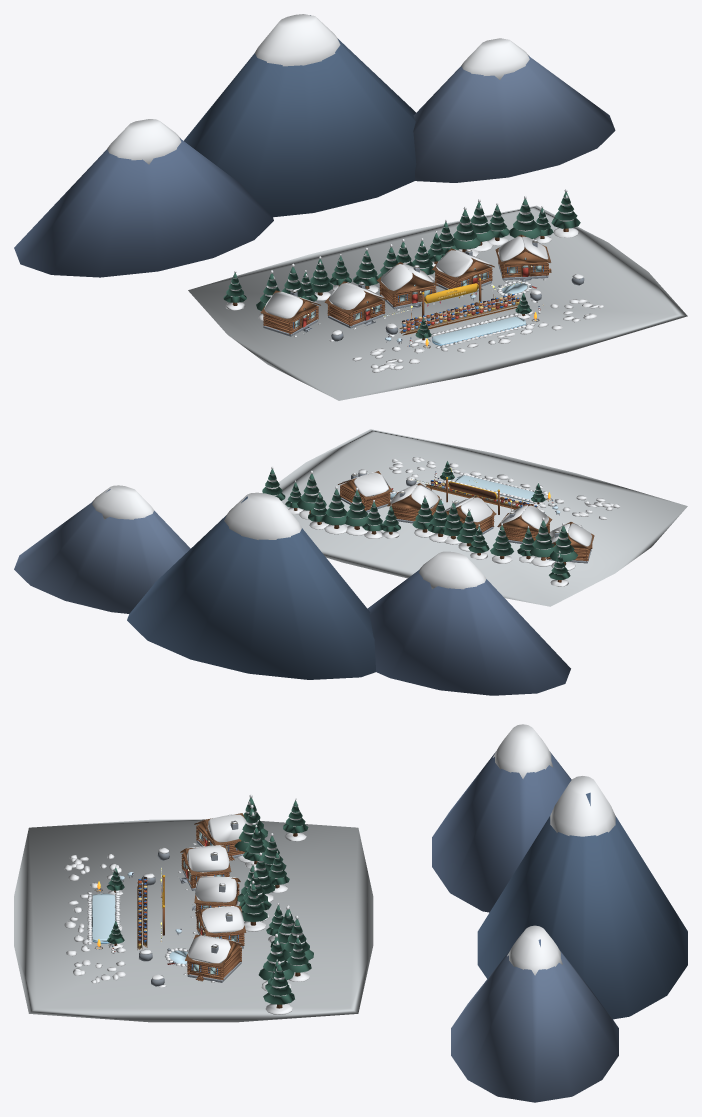
Rendered from nieveclara.glb.
3 views of the same model, one above another, from view 1: azimuth 30°, elevation 25°; view 2: azimuth 150°, elevation 25°; view 3: azimuth 270°, elevation 25° (orthographic). The views are drawn at different scales.
Parts seen in each view (by area): view 1: estatico 0, estatico 1; view 2: estatico 0, estatico 1; view 3: estatico 0, estatico 1.
Boxes of the visible parts, <box> form: estatico 0: <box>14,14,687,400</box>; estatico 1: <box>260,234,551,322</box>; estatico 0: <box>14,429,687,695</box>; estatico 1: <box>338,471,594,549</box>; estatico 0: <box>14,724,687,1102</box>; estatico 1: <box>169,813,246,967</box>.
Size of the model in its own units: 125 by 30.05 by 113.
